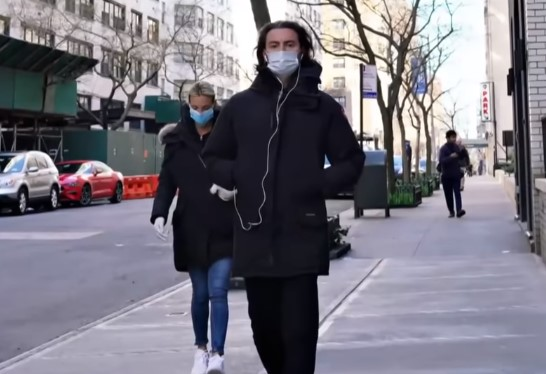face_with_mask: (257, 20, 307, 83), (186, 82, 218, 126)
